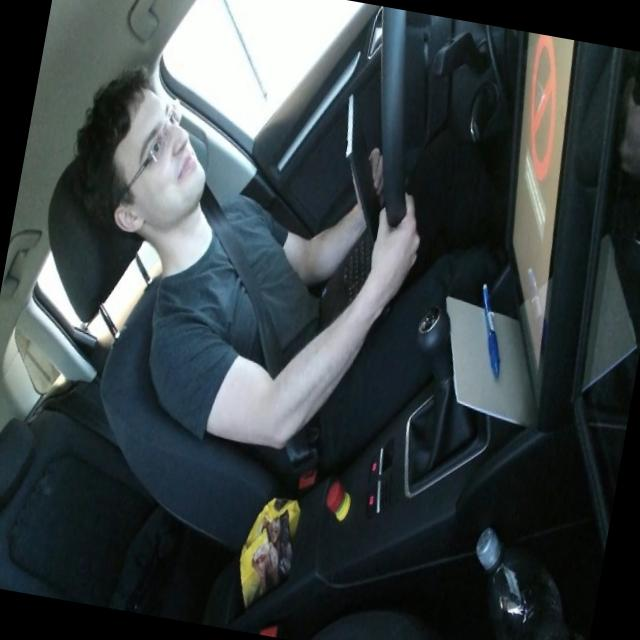pen: (466, 279, 515, 379)
